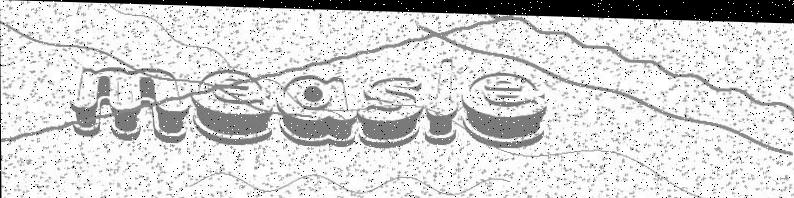a: (277, 72, 358, 145)
e: (461, 69, 548, 146), (191, 68, 273, 143)
l: (425, 56, 457, 143)
m: (69, 66, 191, 142)
s: (357, 74, 424, 146)
